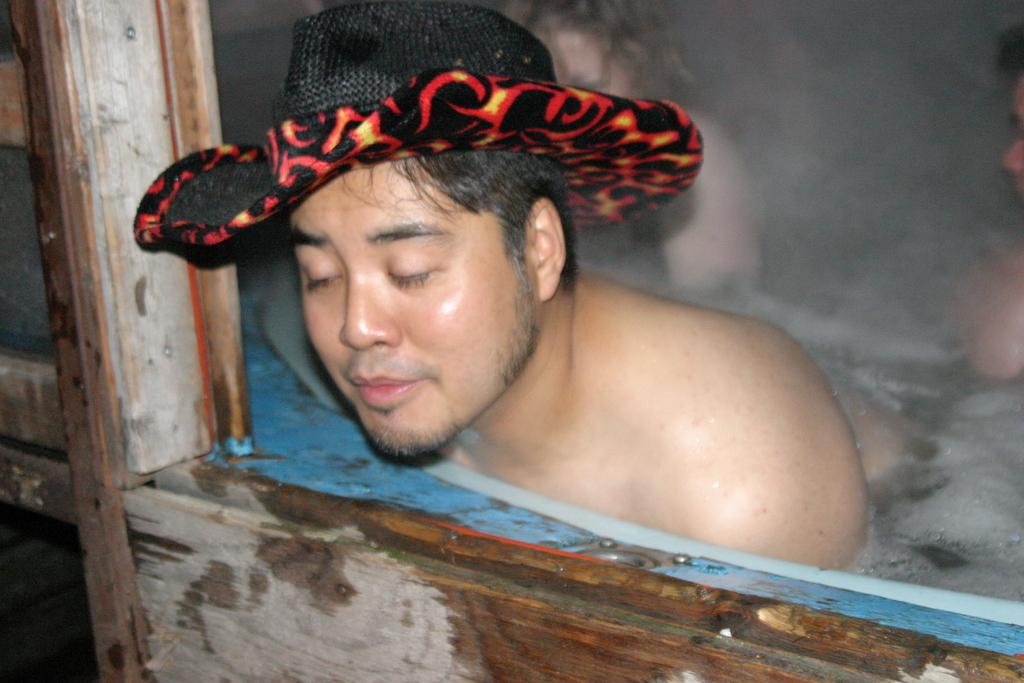Hat: (128, 0, 705, 246)
